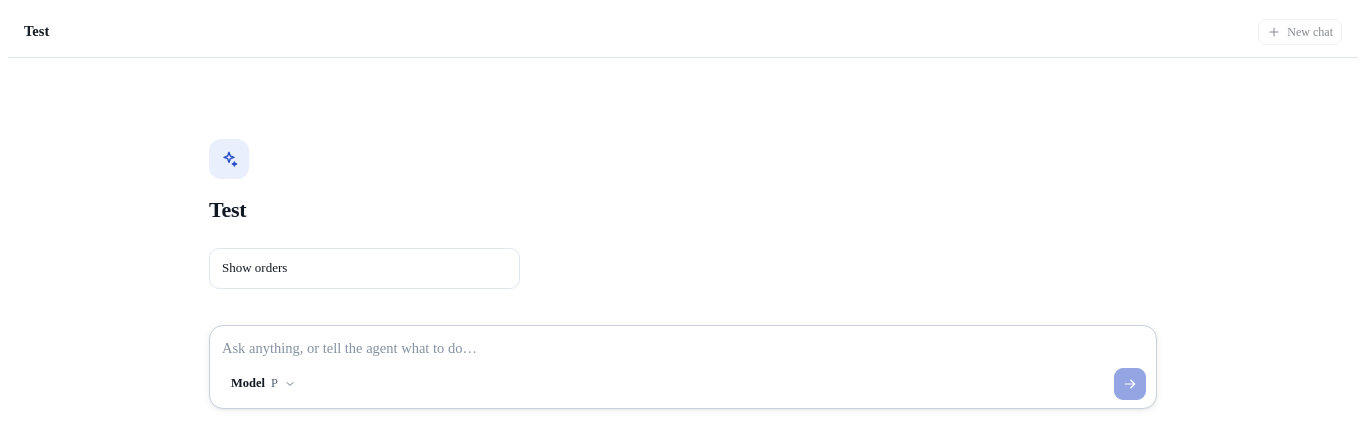
Test case: AgentChat › re-renders as the store loads and streams a run
Check: the text with class "kl-models__name" reads "Model", box [231, 376, 265, 390]
Check: the heading with class "kl-welcome__title" reads "Test", box [209, 197, 246, 222]
Click the button "Show orders" at (255, 268), box [209, 248, 520, 289]
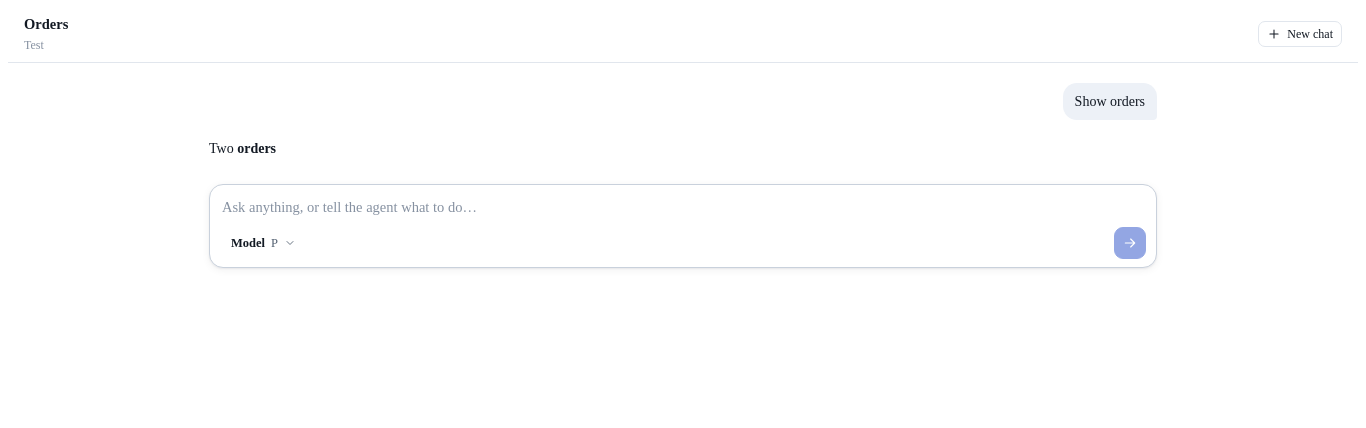
Check: the element with class "kl-msg--user" reads "Show orders", box [1075, 94, 1145, 109]
Check: the text with class "kl-chat__title" reads "Orders", box [24, 16, 68, 32]
